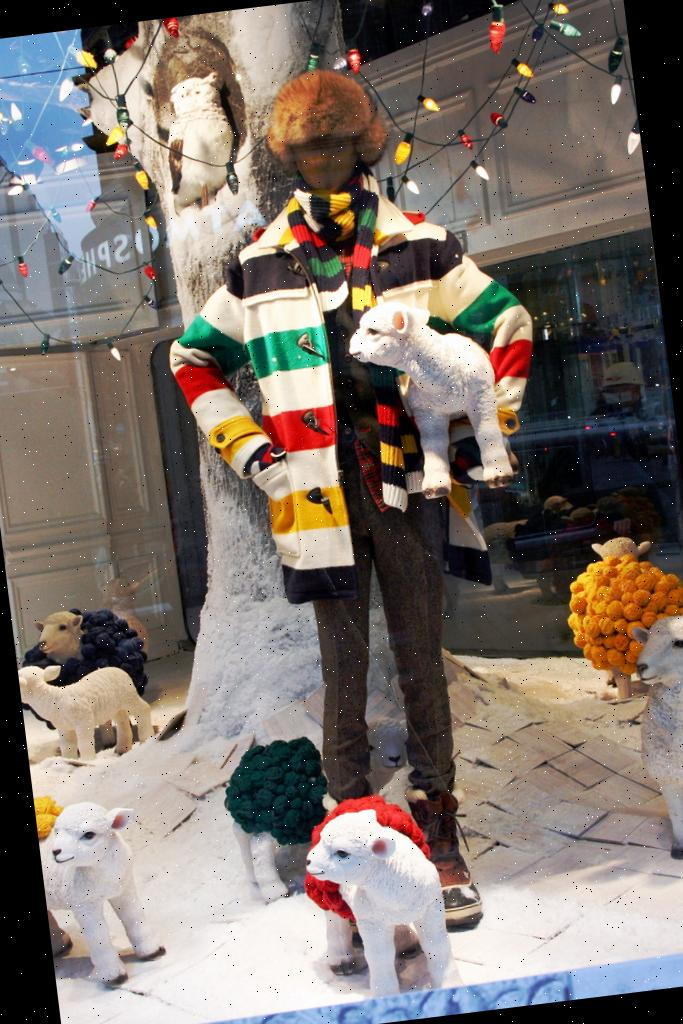Sheep: (342, 287, 517, 507), (295, 805, 460, 1006), (34, 797, 160, 981), (16, 650, 156, 765), (623, 621, 683, 852), (582, 536, 658, 700), (34, 608, 107, 758)
